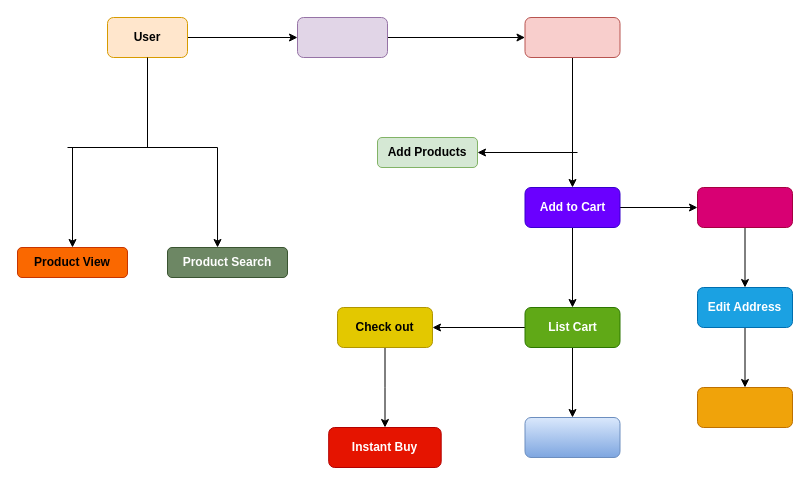
Image size: 810x485. Some labels were removed from this diagram. The centre of each missing label's shape, as x and y in pixels:
"Add Address" goes at point 744,207.
"Delete Address" goes at point 744,407.
"Login" goes at point 572,37.
"Remove from Cart" goes at point 572,437.
"Sign up" goes at point 342,37.
